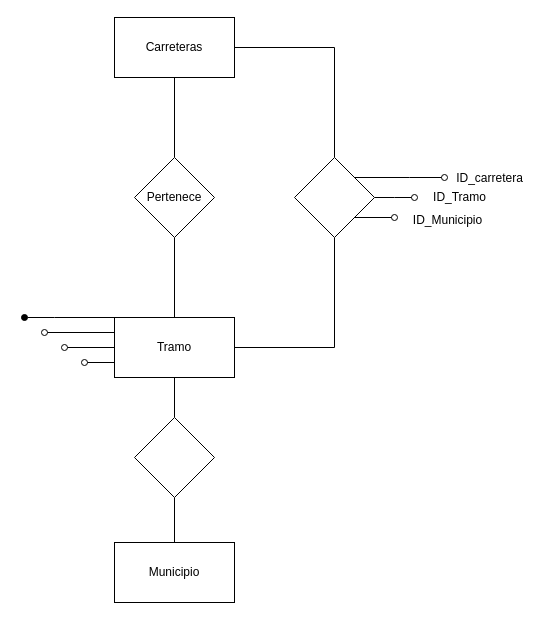
This 552x620 diagram has some shape labels left out. The shapes that lost their labels are listed below. From the top down, each one's centre as x and y in pixels, then its label:
At point (334, 197): "No es final".
At point (174, 457): "Pasa".
